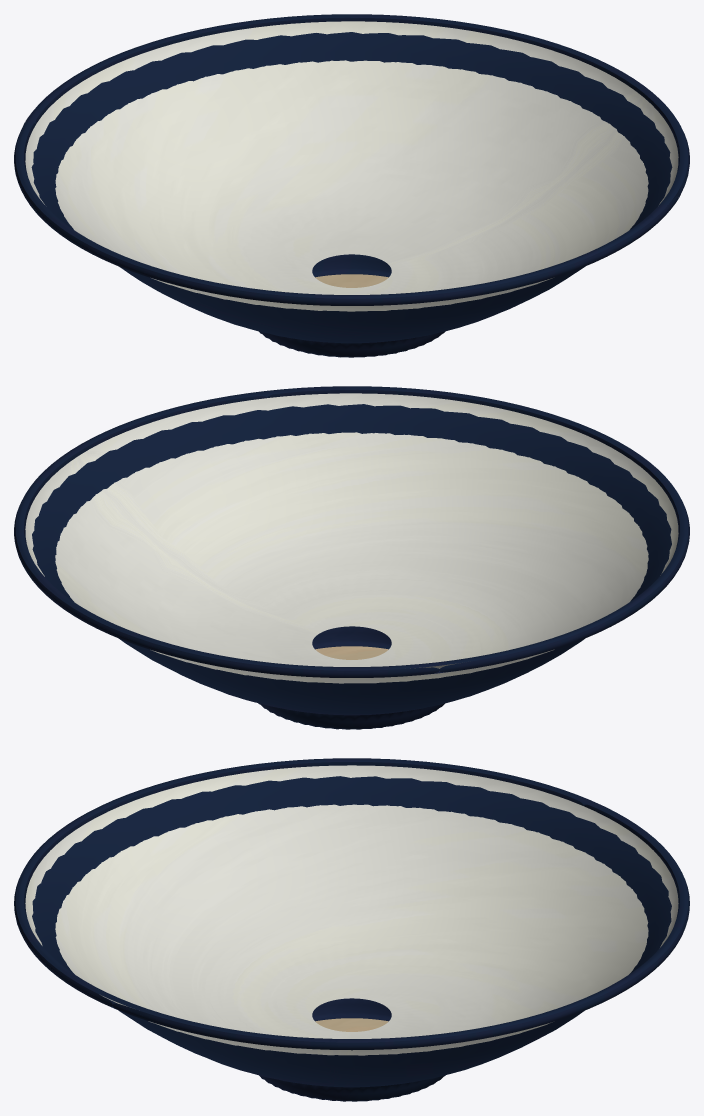
Rendered from PROP_NightBlue_Bowl_Deep.glb.
The picture shows the model from 3 angles, top to bottom: view 1: azimuth 30°, elevation 25°; view 2: azimuth 150°, elevation 25°; view 3: azimuth 270°, elevation 25°; orthographic projection.
Visible parts, largest first — view 1: PROP_NightBlue_Bowl_Deep; view 2: PROP_NightBlue_Bowl_Deep; view 3: PROP_NightBlue_Bowl_Deep.
Boxes of the visible parts, bbox=[...] form: PROP_NightBlue_Bowl_Deep: bbox=[14, 14, 689, 357]; PROP_NightBlue_Bowl_Deep: bbox=[14, 386, 689, 729]; PROP_NightBlue_Bowl_Deep: bbox=[14, 758, 689, 1101].
Size of the model in its own units: 0.766 by 0.2 by 0.766.
3 materials, 3 textured.
